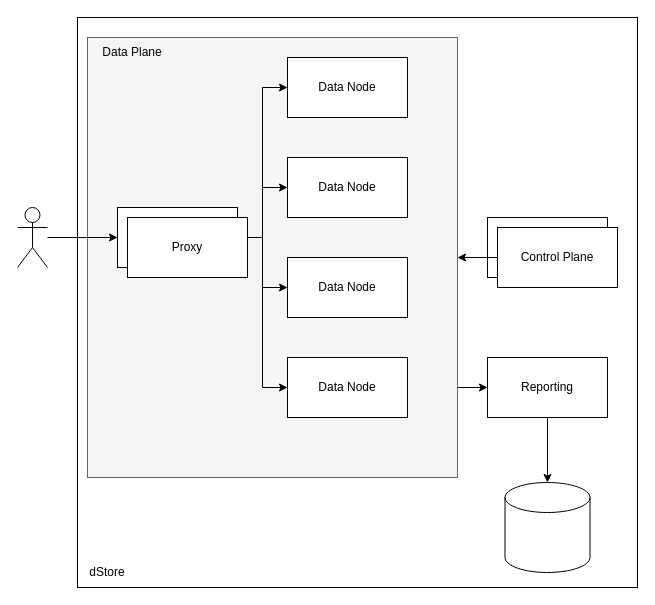
This 655x605 diagram has some shape labels left out. Each missing label, with the centre of its shape:
"Analytics Data Store" belongs at point (547, 527).
"Client" belongs at point (32, 237).
